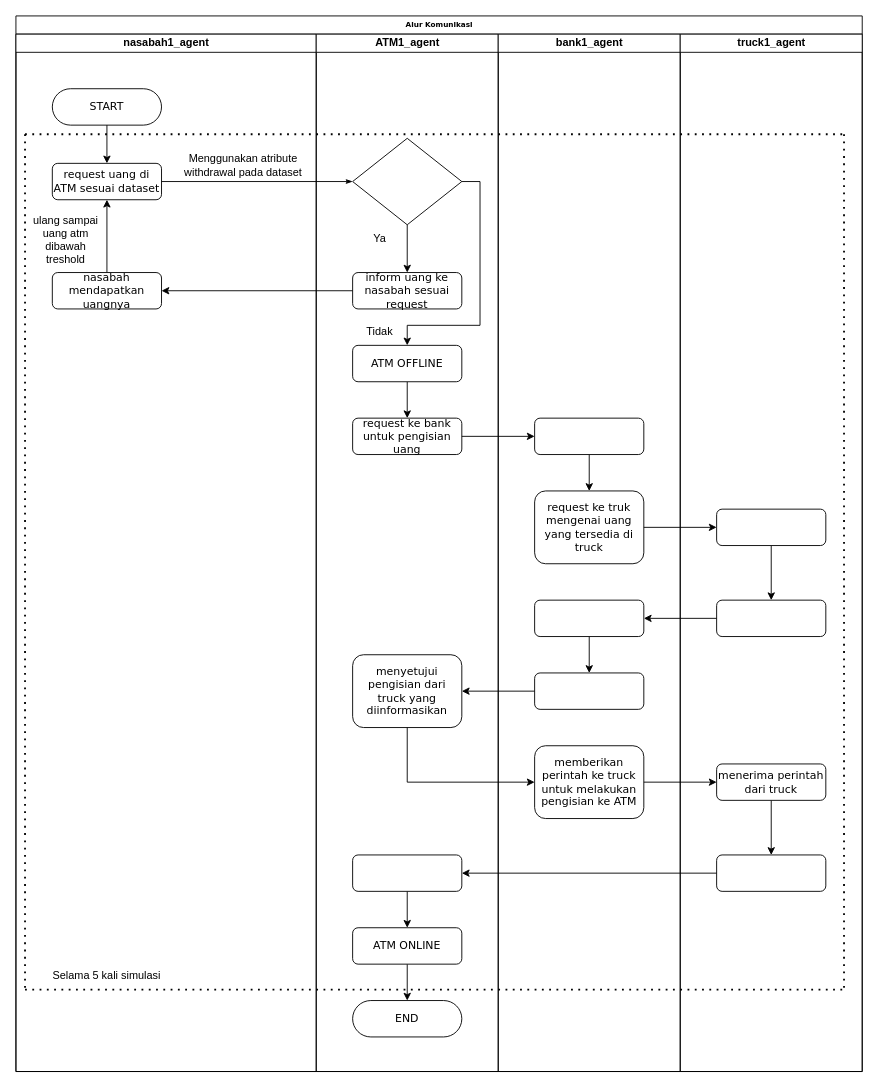
Image size: 878x1087. Some labels were removed from this diagram. The shapes that lost their labels are listed below. From the top down, each one's centre as x and y in pixels, then its label:
(407,181): apakah uang di mesin <2000000?
(589,436): menerima request dari ATM
(771,527): menerima request dari bank
(589,618): informasi uang dari truck diterima
(771,618): memberikan informasi tentang uang yang dibawa
(589,690): inform ke ATM tentang uang yang dibawa truck
(407,872): menerima uang dan terisi sampai penuh
(771,872): mengirimkan uang ke ATM
